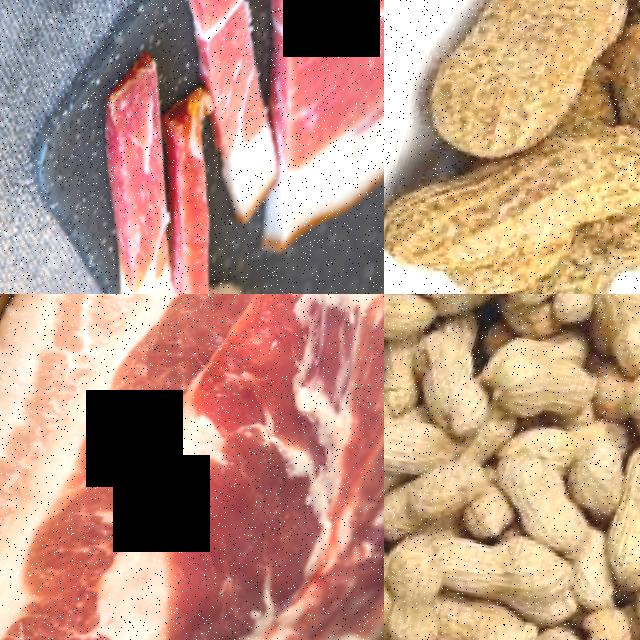peanuts: (416, 0, 640, 172), (566, 0, 640, 294), (425, 519, 588, 623), (480, 342, 610, 441), (488, 453, 611, 553), (384, 388, 464, 496), (429, 591, 550, 640), (600, 437, 640, 584), (384, 294, 443, 354), (621, 348, 640, 438)
pork belly: (0, 294, 384, 640), (46, 54, 285, 294), (252, 0, 384, 294), (159, 0, 301, 95)
